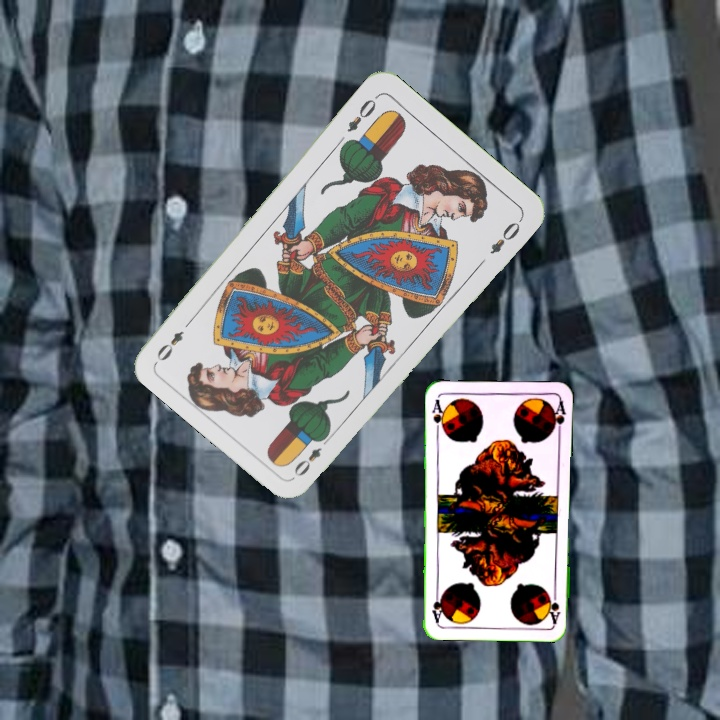EO: (289, 431, 333, 480), (343, 95, 379, 135)
SA: (428, 395, 447, 435), (545, 585, 562, 626)
